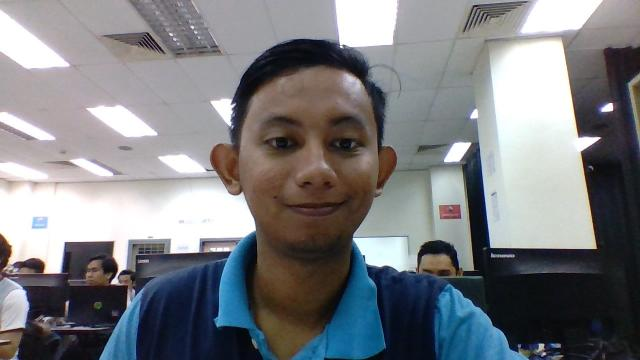senang: (235, 62, 386, 256)
